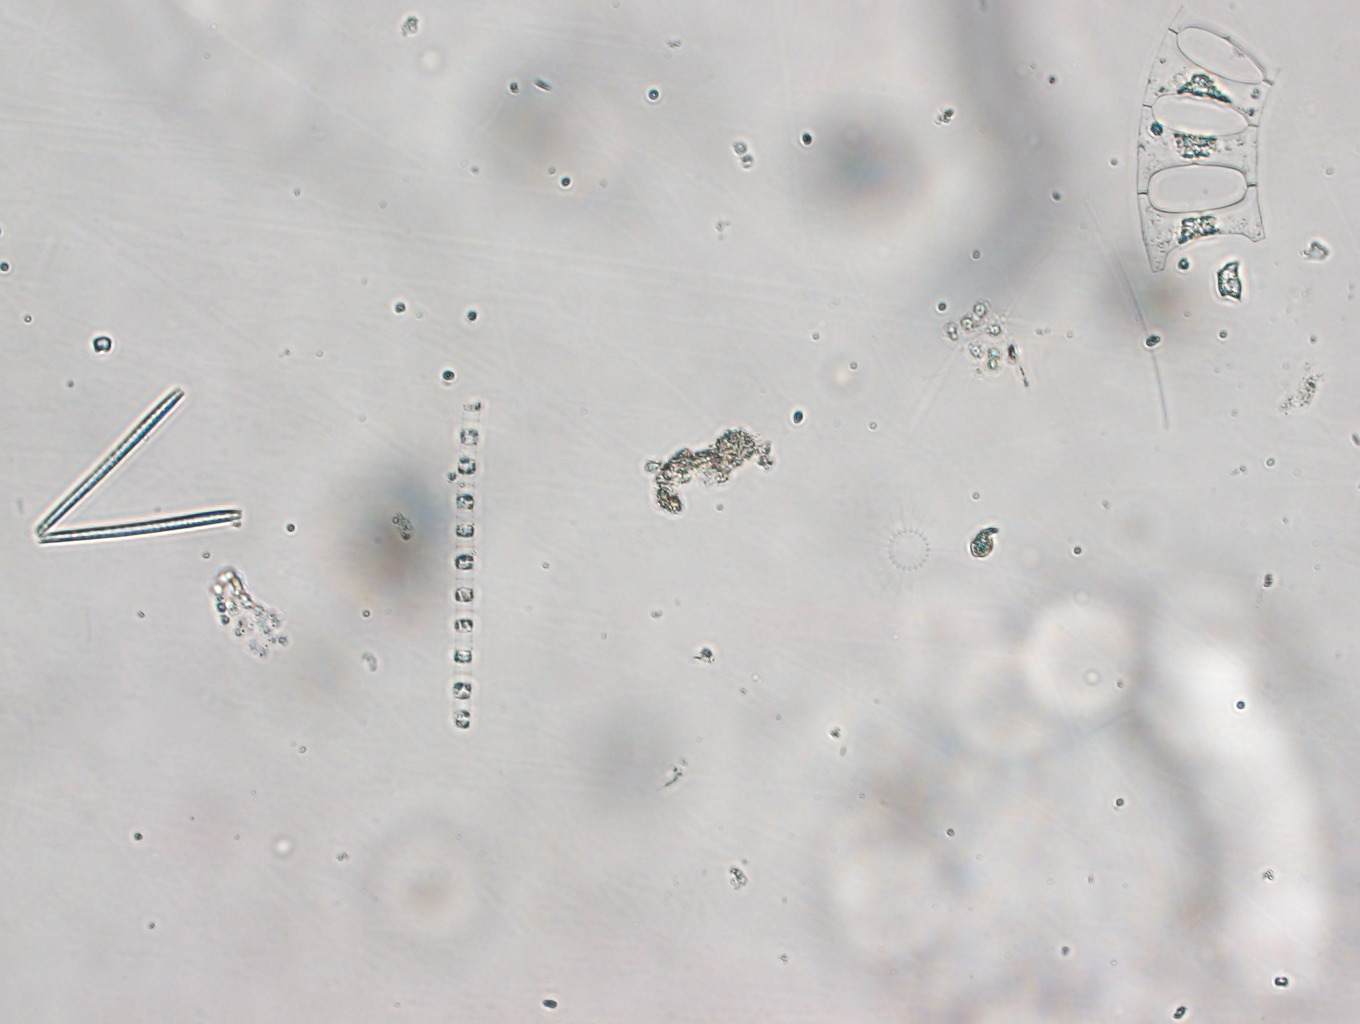eucampia: (1128, 3, 1289, 276)
skeletonema: (419, 389, 510, 746)
thalassionema nitzschioides: (26, 375, 247, 551)
